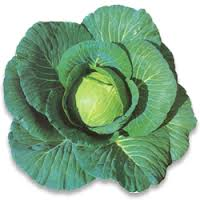cabbage: (68, 65, 132, 132)
